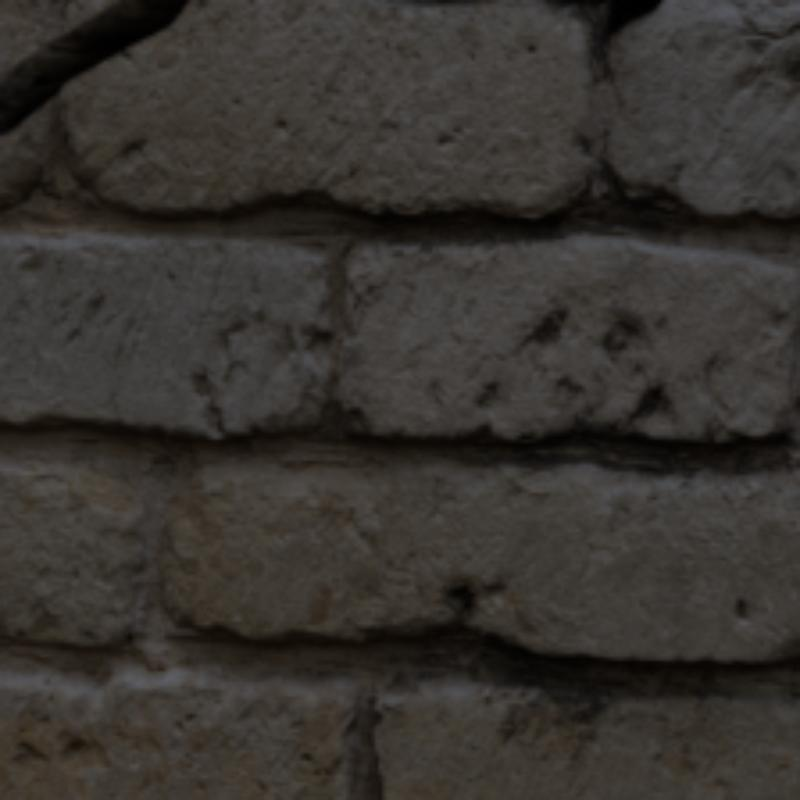pothole: (0, 0, 186, 132), (575, 0, 657, 39)
